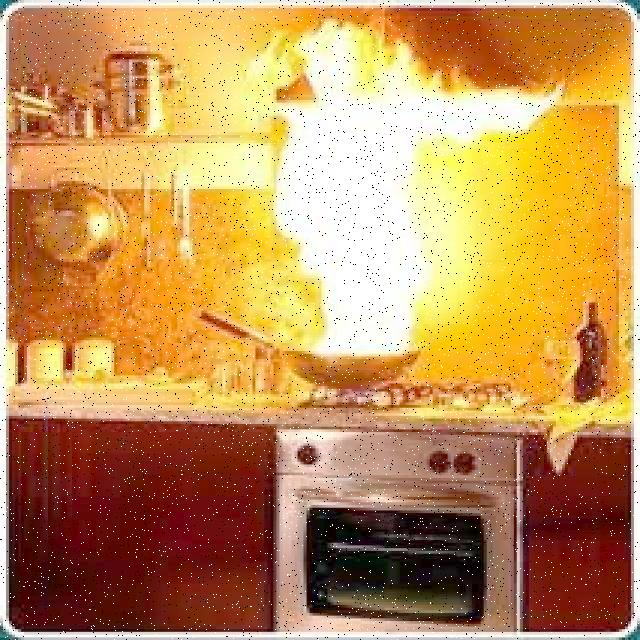fire: (272, 20, 566, 352)
